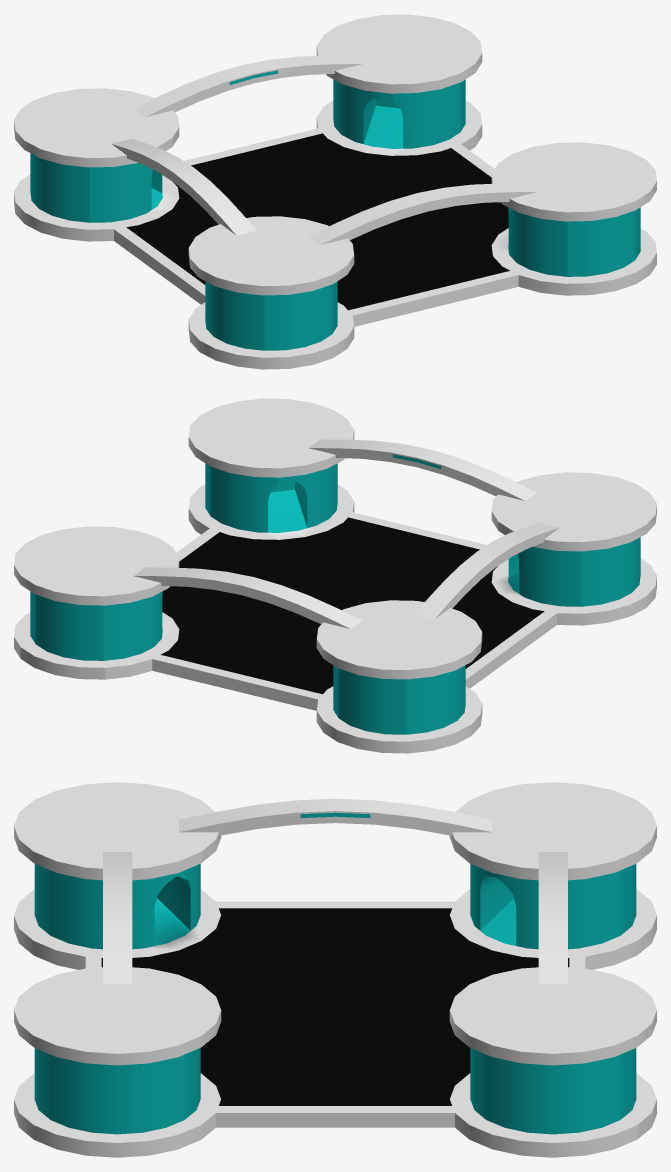
3 views of the same model, one above another, from view 1: azimuth 30°, elevation 25°; view 2: azimuth 150°, elevation 25°; view 3: azimuth 270°, elevation 25° (orthographic). The views are drawn at different scales.
Visible parts, largest first — view 1: Arena1; view 2: Arena1; view 3: Arena1.
Part boxes in pixels (x1=…): Arena1: x1=14, y1=14, x2=656, y2=369; Arena1: x1=14, y1=398, x2=656, y2=753; Arena1: x1=14, y1=782, x2=656, y2=1157.
Bounding box in the file's own units: 2191 × 470 × 2191.
